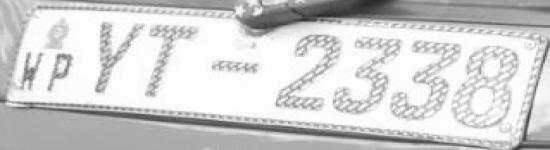-: (209, 57, 260, 76)
2: (274, 25, 343, 116)
3: (392, 33, 463, 129), (335, 28, 399, 123)
8: (453, 44, 525, 136)
P: (48, 53, 82, 96)
T: (144, 19, 201, 99)
W: (12, 51, 44, 92)
Y: (90, 16, 146, 109)
